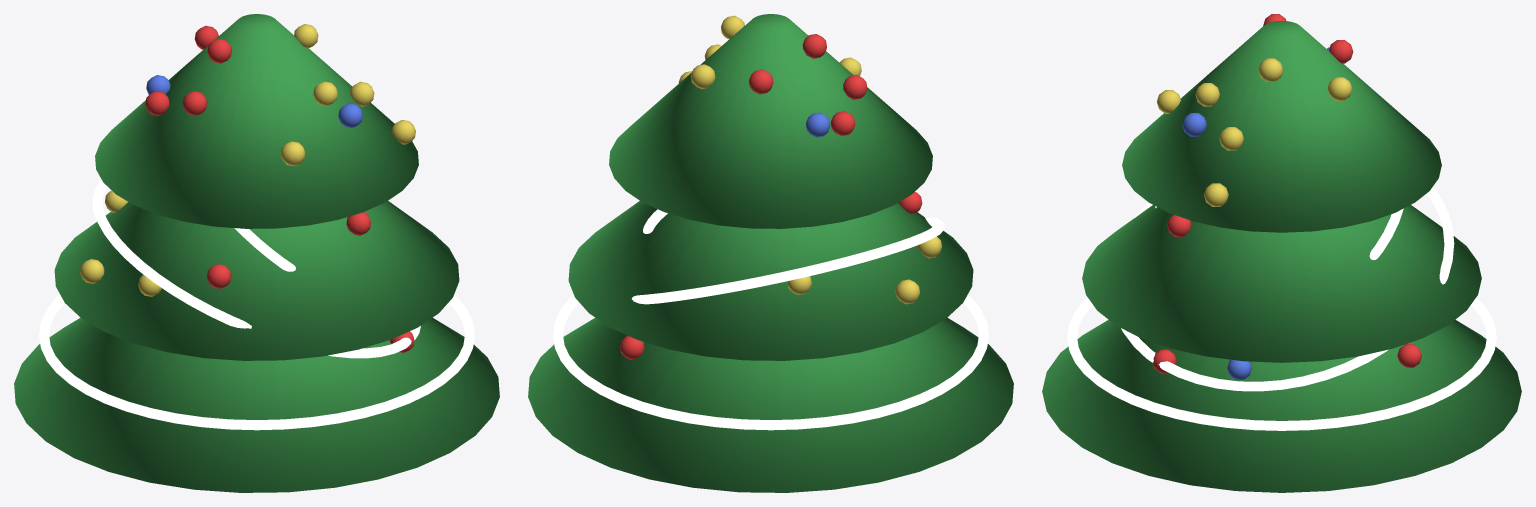
File: Christmas tree.glb
The picture shows the model from 3 angles, left to right: view 1: azimuth 30°, elevation 25°; view 2: azimuth 150°, elevation 25°; view 3: azimuth 270°, elevation 25°; orthographic projection.
Parts seen in each view (by area): view 1: Tier_1, Tier_2, Tier_3, Garland, OrnamentsGold, OrnamentsRed, OrnamentsBlue; view 2: Tier_1, Tier_2, Tier_3, Garland, OrnamentsRed, OrnamentsGold; view 3: Tier_1, Tier_2, Tier_3, Garland, OrnamentsGold, OrnamentsRed, OrnamentsBlue.
Boxes of the visible parts, x1,y1,x2,y2 form: Tier_1: (14, 317, 499, 492); Tier_2: (54, 201, 459, 360); Tier_3: (95, 14, 418, 228); Garland: (39, 180, 474, 430); OrnamentsGold: (80, 24, 415, 296); OrnamentsRed: (145, 25, 414, 352); OrnamentsBlue: (146, 75, 362, 128); Tier_1: (528, 317, 1013, 492); Tier_2: (568, 201, 973, 360); Tier_3: (609, 14, 932, 228); Garland: (553, 209, 988, 430); OrnamentsRed: (620, 34, 922, 359); OrnamentsGold: (678, 15, 941, 304); Tier_1: (1042, 319, 1521, 492); Tier_2: (1082, 205, 1481, 362); Tier_3: (1122, 21, 1441, 232); Garland: (1067, 187, 1496, 430); OrnamentsGold: (1157, 58, 1352, 206); OrnamentsRed: (1152, 14, 1421, 373); OrnamentsBlue: (1182, 47, 1329, 379).
Size of the model in its own units: 0.96 by 0.98 by 0.96.
